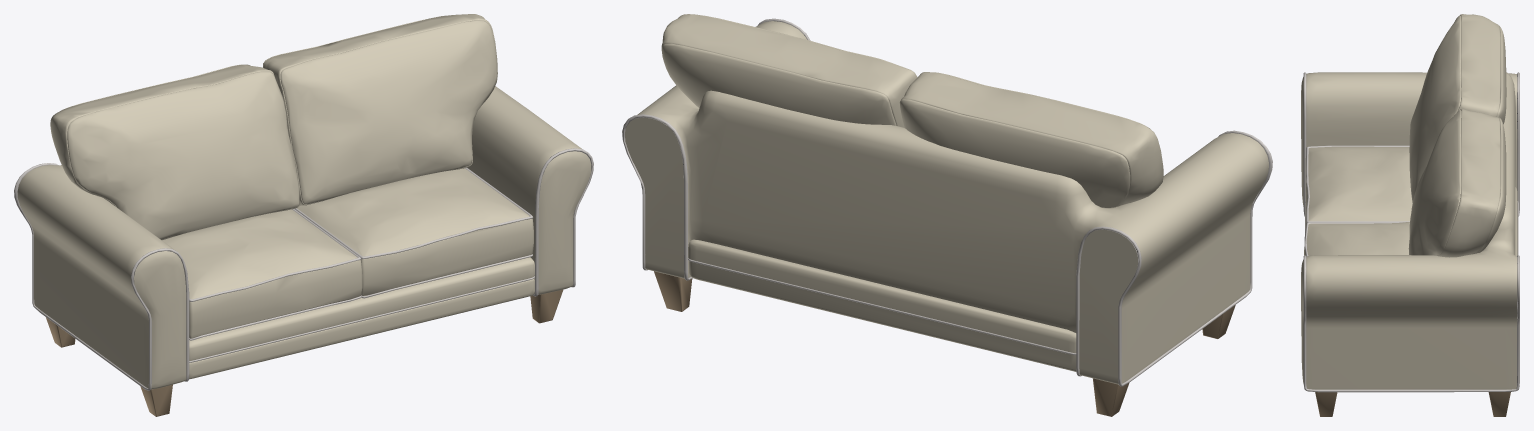
Rendered from sofa2.glb.
The picture shows the model from 3 angles, left to right: view 1: azimuth 30°, elevation 25°; view 2: azimuth 150°, elevation 25°; view 3: azimuth 270°, elevation 25°; orthographic projection. The views are drawn at different scales.
Parts seen in each view (by area): view 1: Sofa; view 2: Sofa; view 3: Sofa.
Boxes of the visible parts, x1=… form: Sofa: x1=14, y1=14, x2=593, y2=416; Sofa: x1=622, y1=14, x2=1272, y2=416; Sofa: x1=1301, y1=14, x2=1519, y2=416.
Size of the model in its own units: 1.67 by 0.848 by 0.747.
